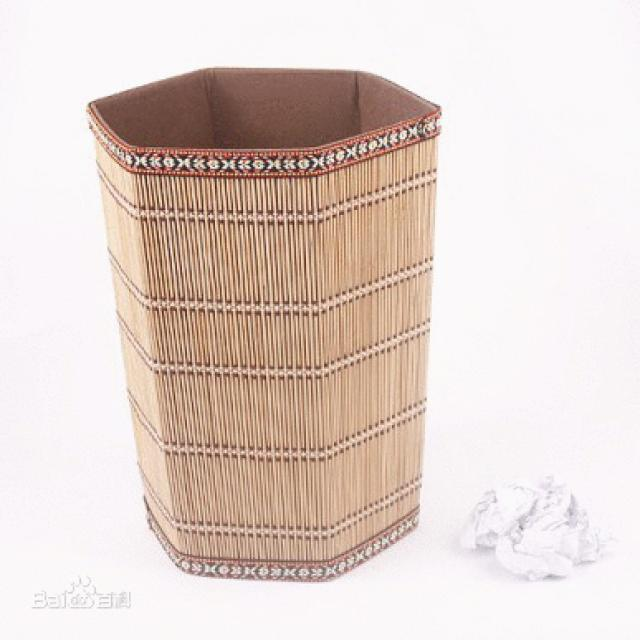crumpled_paper: (452, 466, 625, 585)
dustbin: (78, 57, 450, 588)
